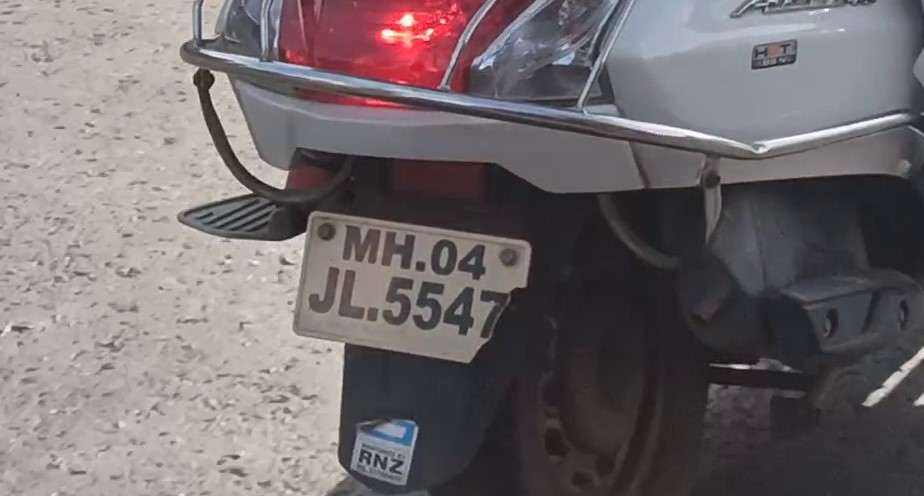MH04JL5547: (298, 216, 530, 354)
